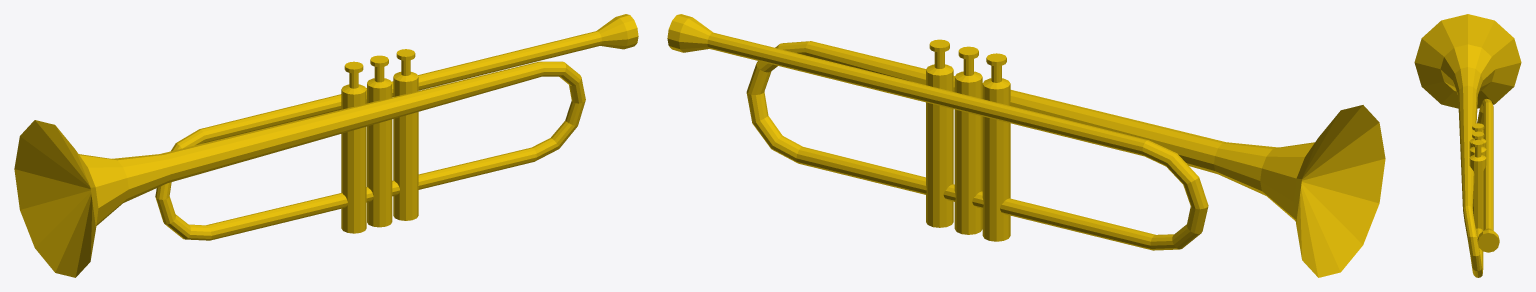
Rendered from gun_trumpet.glb.
3 views of the same model, side by side, from view 1: azimuth 30°, elevation 25°; view 2: azimuth 150°, elevation 25°; view 3: azimuth 270°, elevation 25° (orthographic). The views are drawn at different scales.
Parts seen in each view (by area): view 1: trumpet; view 2: trumpet; view 3: trumpet.
Part boxes in pixels (x1,y1,x2,y2): trumpet: [14, 14, 638, 277]; trumpet: [667, 14, 1385, 277]; trumpet: [1414, 14, 1521, 277].
Bounding box in the file's own units: 6.24 × 1.85 × 1.49.
